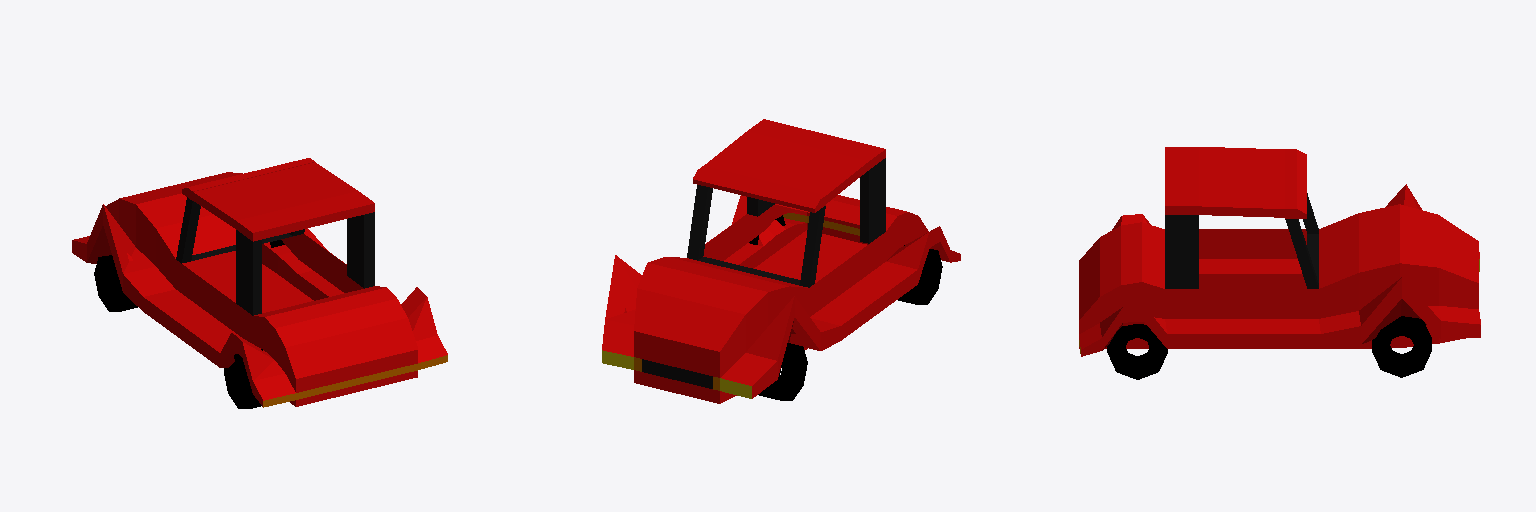
File: toon.obj
3 views of the same model, side by side, from view 1: azimuth 30°, elevation 25°; view 2: azimuth 150°, elevation 25°; view 3: azimuth 270°, elevation 25° (orthographic).
Parts seen in each view (by area): view 1: Cube_Cube, Cylinder_Cylinder; view 2: Cube_Cube, Cylinder_Cylinder; view 3: Cube_Cube, Cylinder_Cylinder.
Boxes of the visible parts, box(x1,y1,x2,y2) form: Cube_Cube: box(72, 158, 447, 407); Cylinder_Cylinder: box(94, 240, 284, 408); Cube_Cube: box(602, 119, 960, 403); Cylinder_Cylinder: box(749, 215, 942, 400); Cube_Cube: box(1079, 147, 1480, 356); Cylinder_Cylinder: box(1107, 316, 1431, 379).
Bounding box in the file's own units: 8.56 × 7.02 × 16.06.